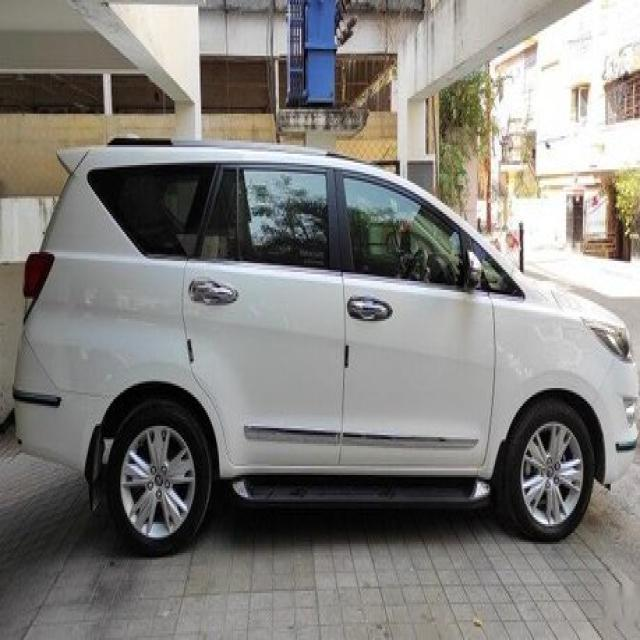light_vehicle: (12, 139, 640, 558)
